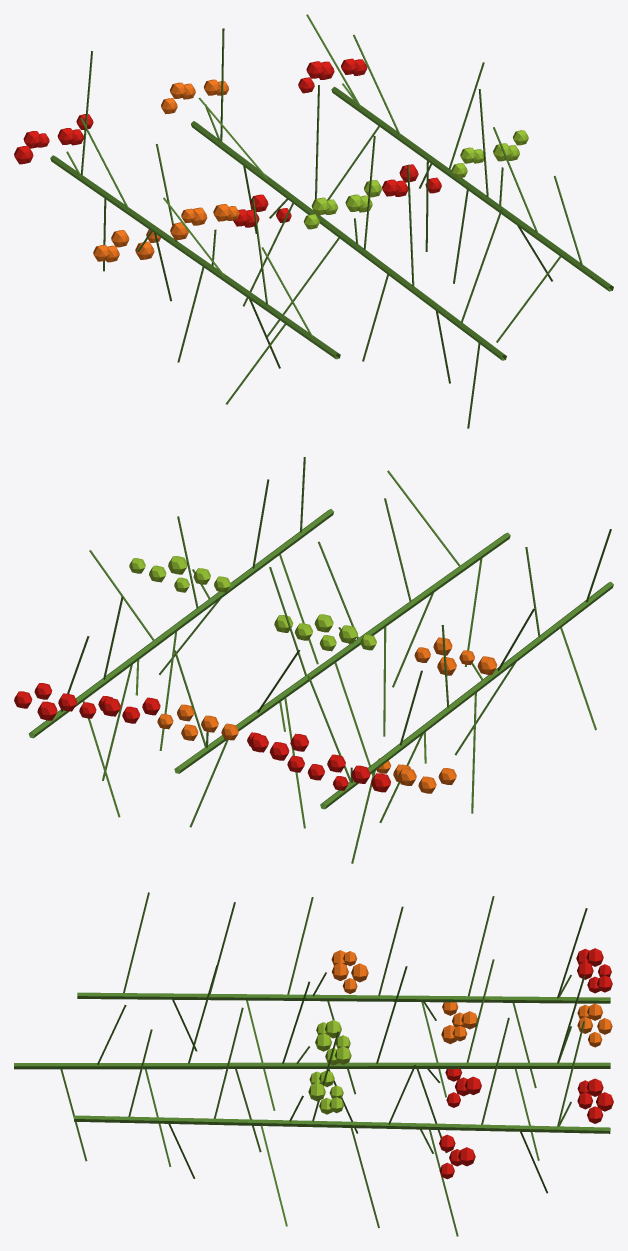
File: r13c2_stems.obj
3 renders of one model, top to bottom at view 1: azimuth 30°, elevation 25°; view 2: azimuth 150°, elevation 25°; view 3: azimuth 270°, elevation 25°, orthographic. The views are drawn at different scales.
Visible parts, largest first — view 1: r13c2_stems; view 2: r13c2_stems; view 3: r13c2_stems.
Boxes of the visible parts, left/top/right/bottom form: r13c2_stems: left=14, top=14, right=613, bottom=428; r13c2_stems: left=14, top=457, right=613, bottom=863; r13c2_stems: left=14, top=892, right=613, bottom=1236.
Size of the model in its own units: 1.5 by 0.8366 by 2.14.
